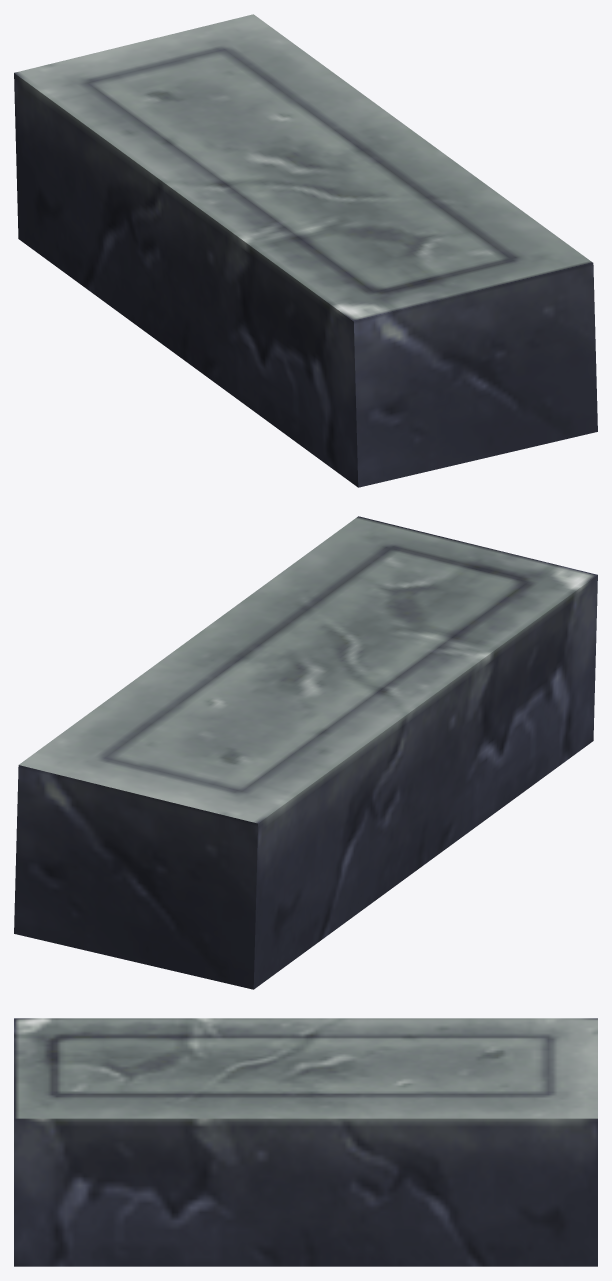
The model's file is qiaoKuai01.FBX.
3 views of the same model, one above another, from view 1: azimuth 30°, elevation 25°; view 2: azimuth 150°, elevation 25°; view 3: azimuth 270°, elevation 25° (orthographic). The views are drawn at different scales.
Visible parts, largest first — view 1: qiaoKuai; view 2: qiaoKuai; view 3: qiaoKuai.
Boxes of the visible parts, x1=… form: qiaoKuai: x1=14, y1=14, x2=597, y2=487; qiaoKuai: x1=14, y1=516, x2=597, y2=989; qiaoKuai: x1=14, y1=1018, x2=597, y2=1266.
Bounding box in the file's own units: 131 × 316 × 87.23.
